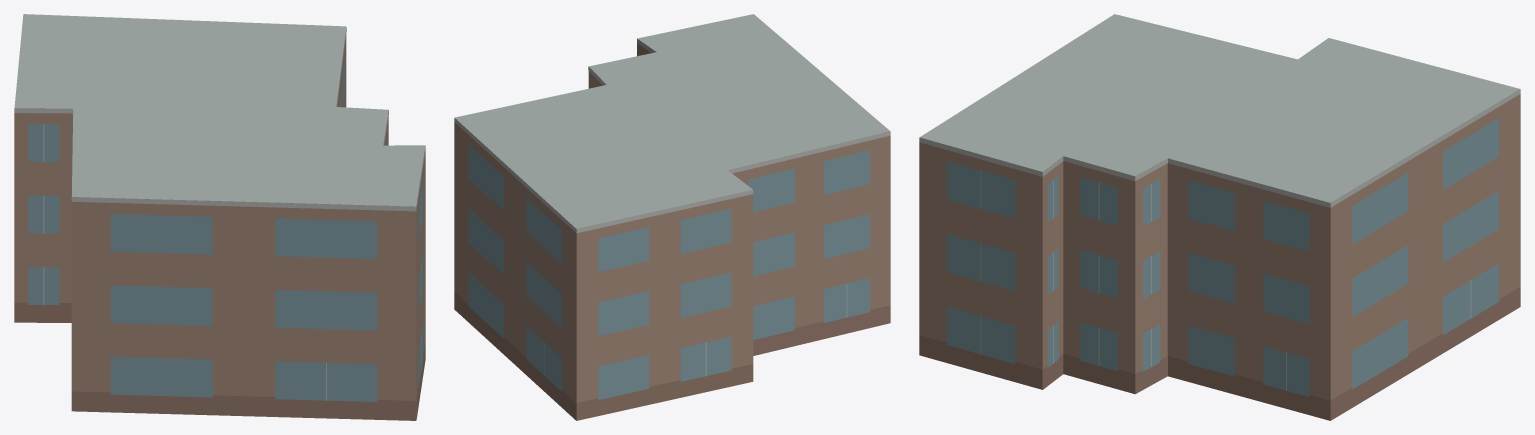
The model's file is survey-upis-32492876.glb.
3 views of the same model, side by side, from view 1: azimuth 30°, elevation 25°; view 2: azimuth 150°, elevation 25°; view 3: azimuth 270°, elevation 25° (orthographic). The views are drawn at different scales.
Parts seen in each view (by area): view 1: survey-upis-32492876.tmp; view 2: survey-upis-32492876.tmp; view 3: survey-upis-32492876.tmp.
Boxes of the visible parts, x1,y1,x2,y2 form: survey-upis-32492876.tmp: [14, 14, 425, 420]; survey-upis-32492876.tmp: [454, 14, 890, 420]; survey-upis-32492876.tmp: [919, 14, 1520, 420].
Bounding box in the file's own units: 20.13 × 10.82 × 27.05.
